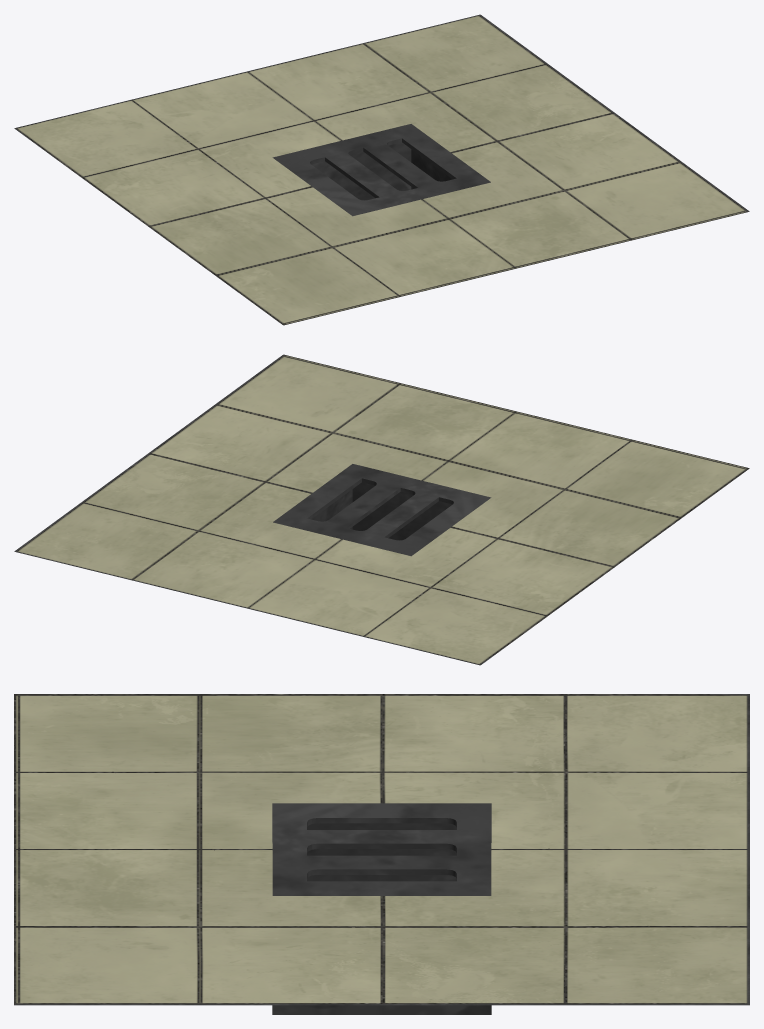
File: Lab_floor_With_Drain_New 1.fbx
3 views of the same model, one above another, from view 1: azimuth 30°, elevation 25°; view 2: azimuth 150°, elevation 25°; view 3: azimuth 270°, elevation 25° (orthographic). The views are drawn at different scales.
Visible parts, largest first — view 1: Floor2WithDrain, Drain; view 2: Floor2WithDrain, Drain; view 3: Floor2WithDrain, Drain.
Boxes of the visible parts, left/top/right/bottom form: Floor2WithDrain: left=14, top=14, right=749, bottom=325; Drain: left=272, top=124, right=490, bottom=216; Floor2WithDrain: left=14, top=354, right=749, bottom=665; Drain: left=273, top=464, right=491, bottom=556; Floor2WithDrain: left=14, top=694, right=749, bottom=1005; Drain: left=272, top=803, right=491, bottom=1014.
Bounding box in the file's own units: 2187 × 390 × 2187.
1 material, 1 textured.
